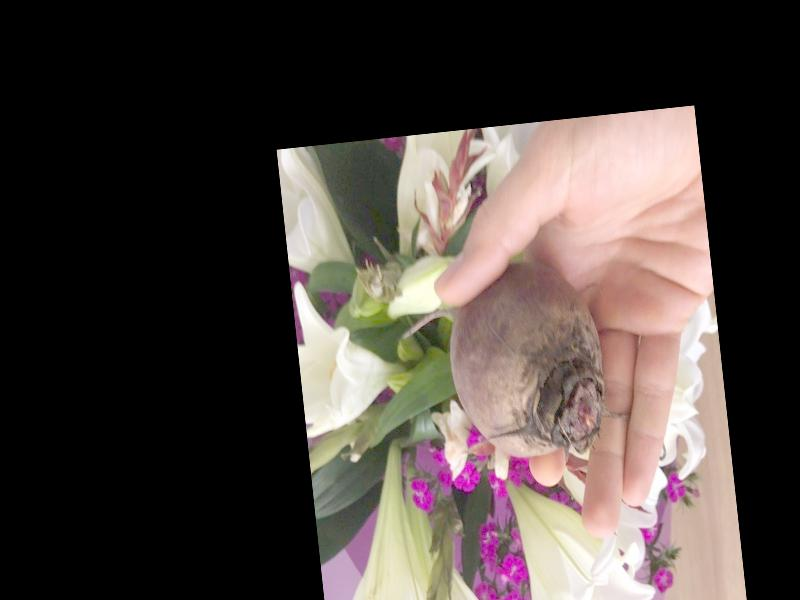Beet: (394, 254, 612, 469)
